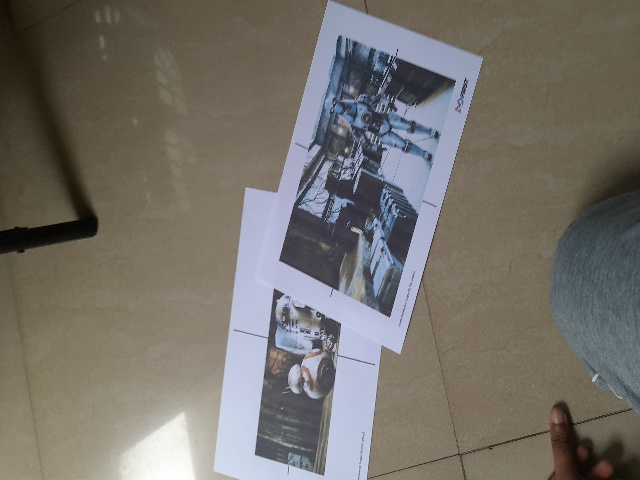fpt1: (278, 24, 468, 317)
fpt2: (236, 272, 369, 480)
